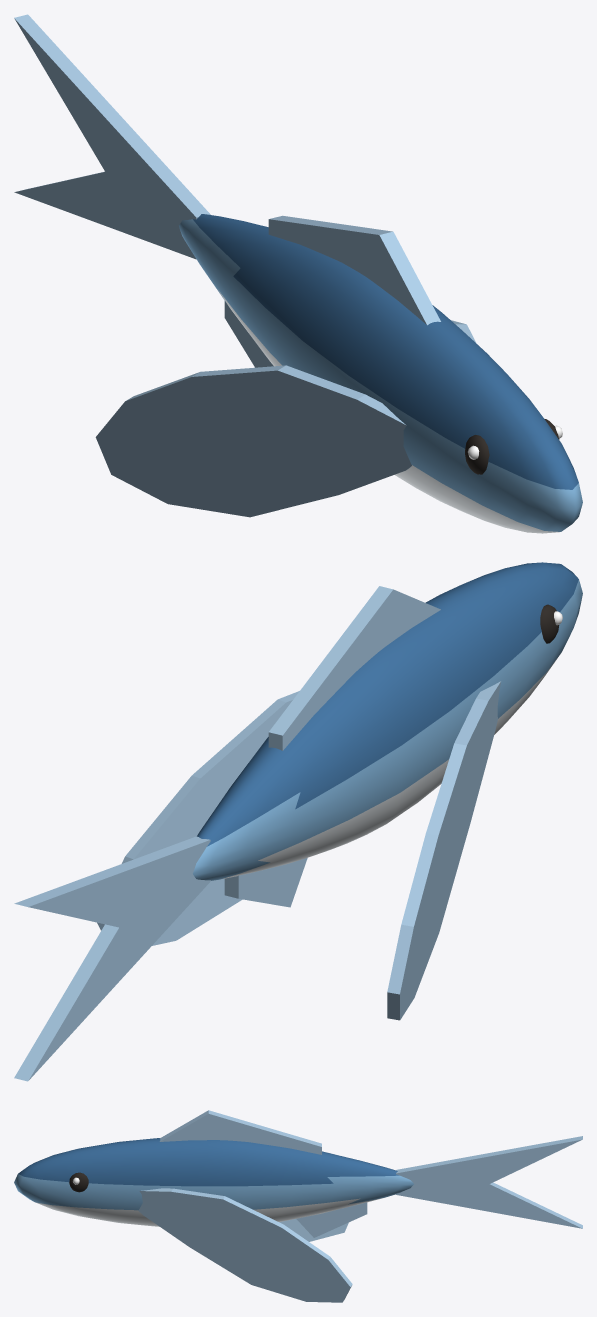
Rendered from fish-flying-fish.glb.
3 renders of one model, top to bottom at view 1: azimuth 30°, elevation 25°; view 2: azimuth 150°, elevation 25°; view 3: azimuth 270°, elevation 25°, orthographic. The views are drawn at different scales.
Parts seen in each view (by area): view 1: fish; view 2: fish; view 3: fish.
Part boxes in pixels (left/top/right/bottom): fish: left=14, top=14, right=582, bottom=533; fish: left=14, top=562, right=582, bottom=1081; fish: left=14, top=1110, right=582, bottom=1302.
Size of the model in its own units: 0.1297 by 0.1265 by 0.41.
